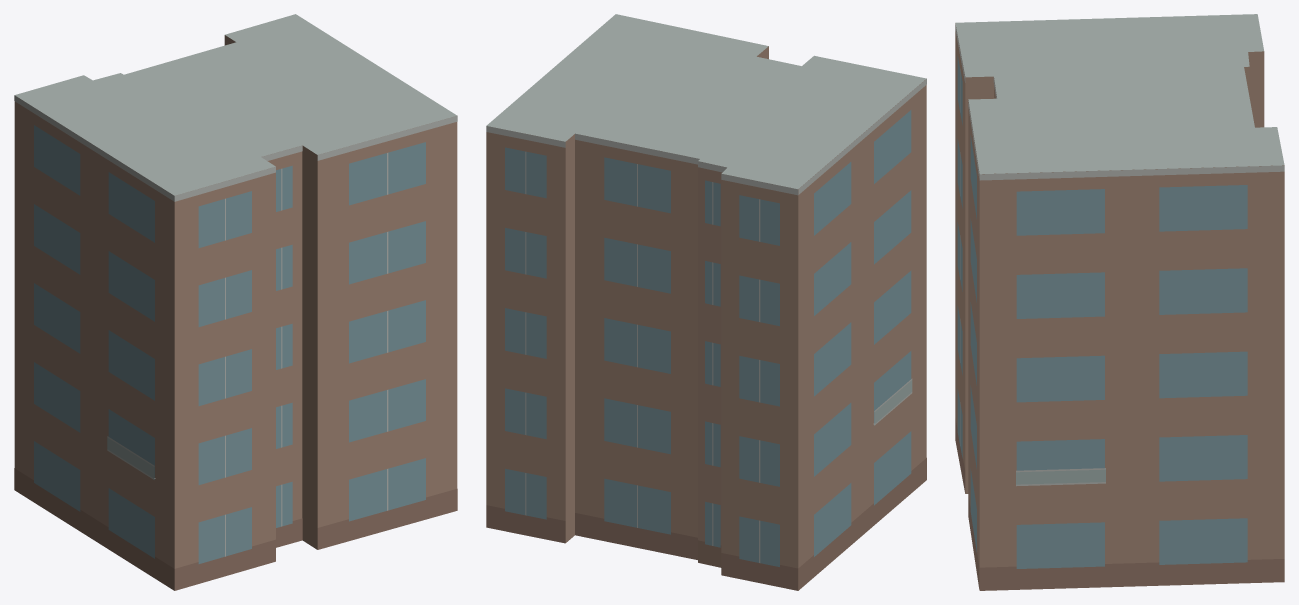
Rendered from survey-upis-32539521.glb.
3 renders of one model, left to right at view 1: azimuth 30°, elevation 25°; view 2: azimuth 150°, elevation 25°; view 3: azimuth 270°, elevation 25°, orthographic. The views are drawn at different scales.
Visible parts, largest first — view 1: survey-upis-32539521.tmp; view 2: survey-upis-32539521.tmp; view 3: survey-upis-32539521.tmp.
Boxes of the visible parts, left/top/right/bottom form: survey-upis-32539521.tmp: left=14, top=14, right=457, bottom=590; survey-upis-32539521.tmp: left=486, top=14, right=926, bottom=590; survey-upis-32539521.tmp: left=955, top=14, right=1284, bottom=590.
Bounding box in the file's own units: 13.3 × 16.12 × 11.56.
